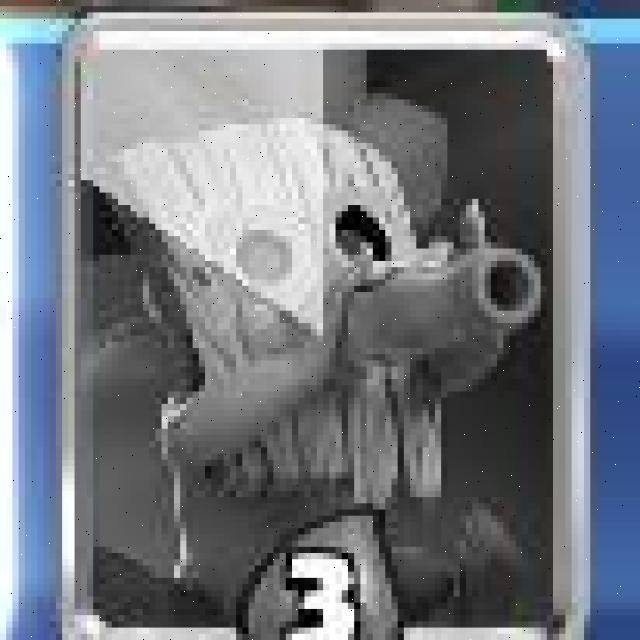Dart_Goblin: (51, 7, 595, 640)
